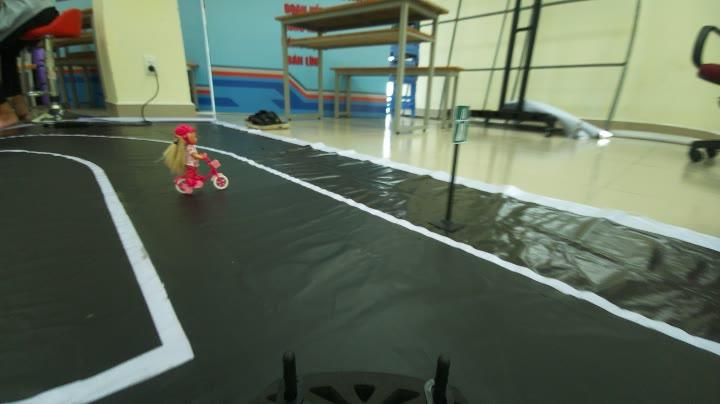highway_entry: (451, 102, 476, 150)
pedestrian: (151, 126, 238, 196)
